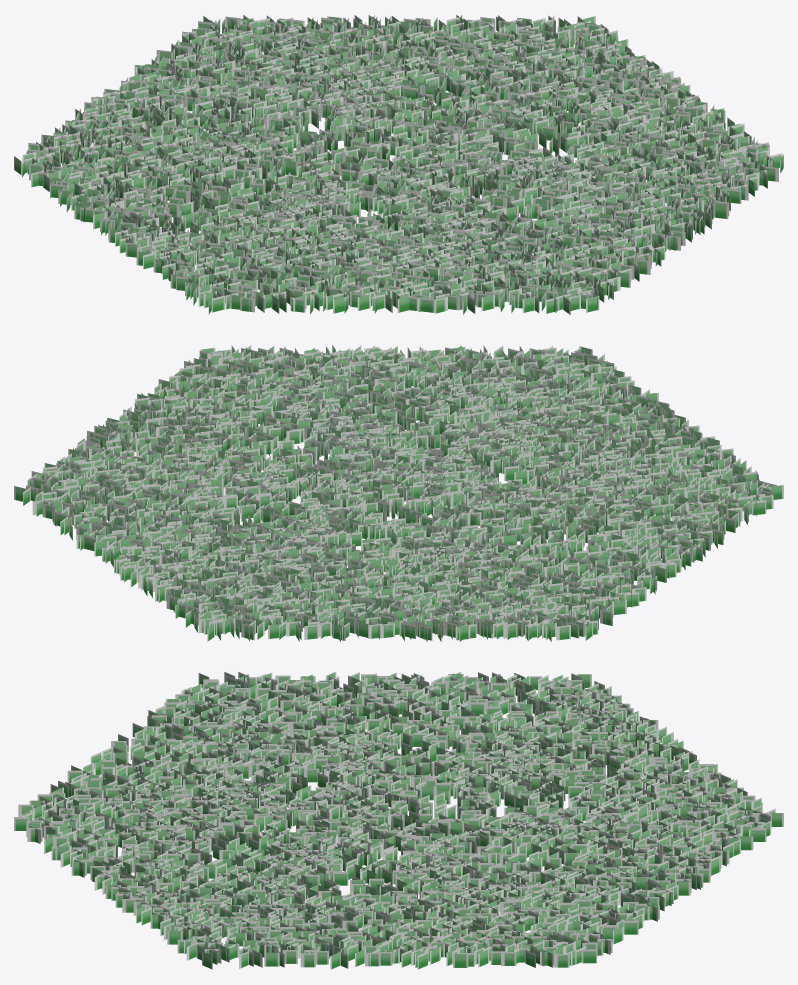
File: GrassFlowers.fbx
3 renders of one model, top to bottom at view 1: azimuth 30°, elevation 25°; view 2: azimuth 150°, elevation 25°; view 3: azimuth 270°, elevation 25°, orthographic.
Visible parts, largest first — view 1: Plane.1823; view 2: Plane.1823; view 3: Plane.1823.
Boxes of the visible parts, <box> form: Plane.1823: <box>14,14,783,315</box>; Plane.1823: <box>14,345,783,641</box>; Plane.1823: <box>14,672,783,969</box>.
Bounding box in the file's own units: 17.66 × 0.4122 × 20.1.
